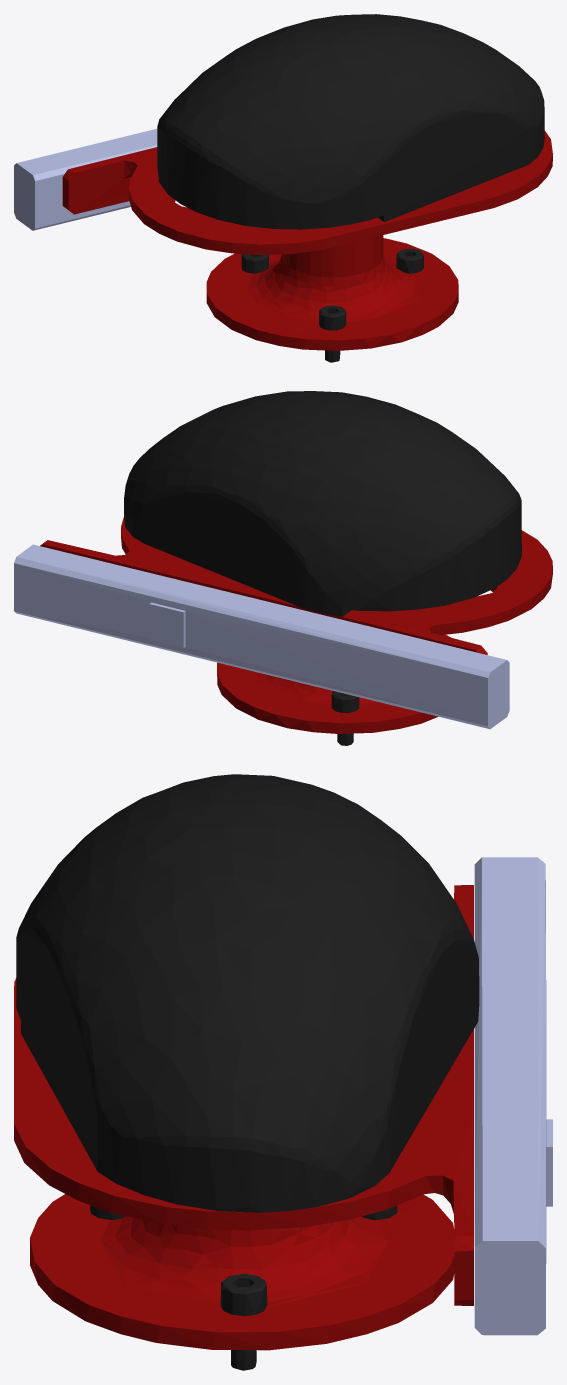
The model's file is end_effector_mouse.dae.
3 views of the same model, one above another, from view 1: azimuth 30°, elevation 25°; view 2: azimuth 150°, elevation 25°; view 3: azimuth 270°, elevation 25° (orthographic). The views are drawn at different scales.
Parts seen in each view (by area): view 1: Shape_IndexedFaceSet.004; view 2: Shape_IndexedFaceSet.004; view 3: Shape_IndexedFaceSet.004.
Boxes of the visible parts, left/top/right/bottom form: Shape_IndexedFaceSet.004: left=14, top=14, right=552, bottom=362; Shape_IndexedFaceSet.004: left=14, top=391, right=552, bottom=745; Shape_IndexedFaceSet.004: left=14, top=774, right=552, bottom=1370.
Size of the model in its own units: 0.138 by 0.082 by 0.082.
